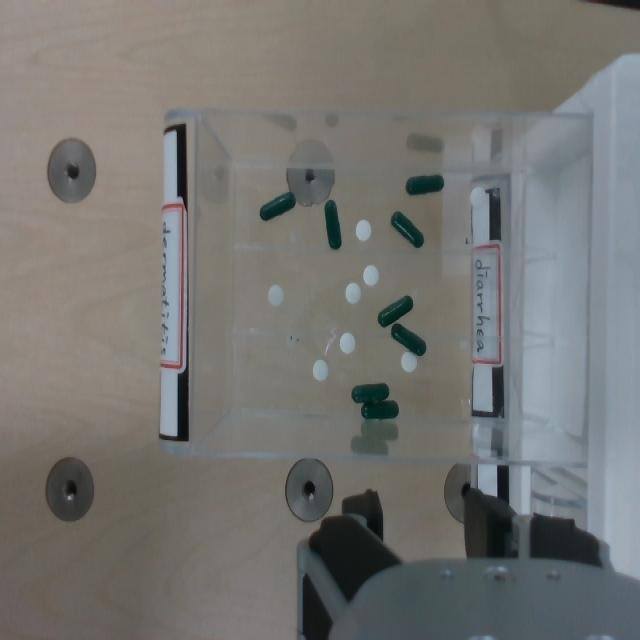ganakan_tab: (355, 219, 373, 242), (312, 358, 329, 382), (401, 351, 418, 372), (268, 284, 284, 306), (363, 264, 379, 286), (340, 332, 355, 355), (345, 283, 361, 304), (339, 332, 355, 353), (401, 351, 417, 372), (346, 282, 361, 304), (267, 285, 283, 305), (356, 219, 371, 240), (313, 359, 328, 380), (363, 265, 378, 285)
monodoxy_cap: (390, 210, 424, 249), (378, 293, 414, 327), (390, 323, 426, 357), (391, 211, 423, 247), (260, 191, 297, 221), (378, 296, 412, 327), (391, 324, 425, 355), (259, 192, 295, 220), (324, 198, 343, 250), (350, 380, 389, 403), (406, 174, 445, 196), (324, 200, 341, 249), (360, 399, 399, 419), (351, 383, 388, 404), (406, 175, 443, 195), (361, 400, 398, 419)
